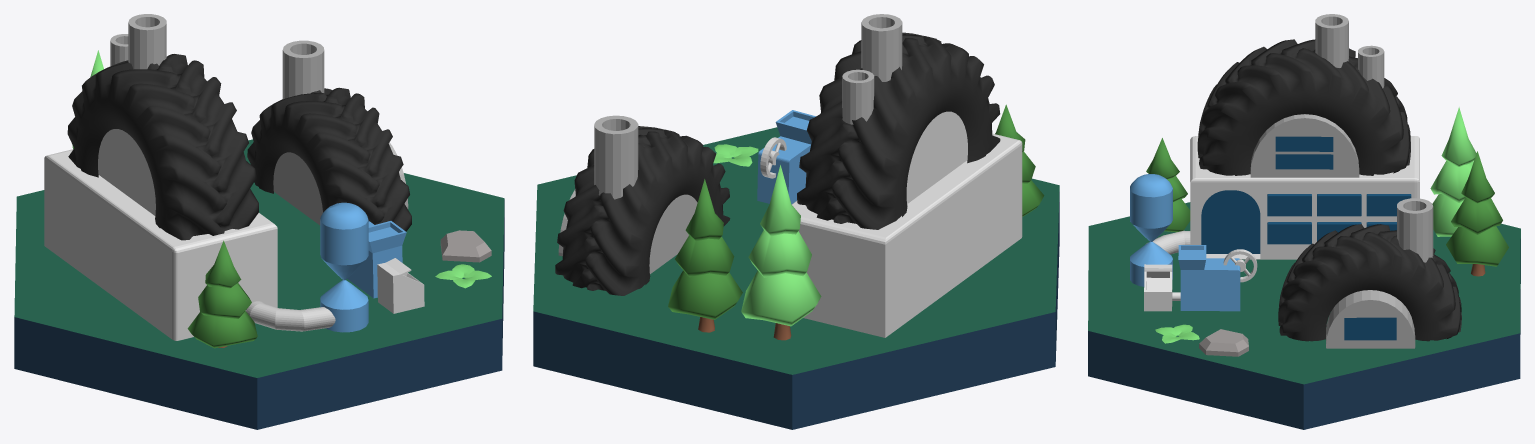
Rendered from Macro - transportation factory lv3 wm3.fbx.
The picture shows the model from 3 angles, left to right: view 1: azimuth 30°, elevation 25°; view 2: azimuth 150°, elevation 25°; view 3: azimuth 270°, elevation 25°; orthographic projection. The views are drawn at different scales.
Parts seen in each view (by area): view 1: Cylinder.154, Cylinder.018, Cube.002, Cylinder.007, Cylinder.014, Tree_Spruce_tiny_01.001, Cylinder.020, Cylinder.003, Cylinder.006, Cube.012, Cube.011, Cylinder.011 (+4 smaller); view 2: Cylinder.154, Cube.002, Cylinder.018, Cylinder.007, Tree_Spruce_tiny_01.002, Tree_Spruce_tiny_01.003, Cylinder.020, Cylinder.003, Cube.012, Cylinder.011, Cylinder.006, Cylinder.004 (+2 smaller); view 3: Cylinder.154, Cylinder.018, Cylinder.007, Cube.002, Tree_Spruce_tiny_01.003, Cylinder.016, Cube.012, Cylinder.014, Cube.008, Cylinder.015, Tree_Spruce_tiny_01.002, Cylinder.003 (+14 smaller).
Boxes of the visible parts, bbox=[...] form: Cylinder.154: bbox=[14, 139, 504, 429]; Cylinder.018: bbox=[67, 54, 258, 240]; Cube.002: bbox=[44, 149, 277, 340]; Cylinder.007: bbox=[247, 87, 411, 231]; Cylinder.014: bbox=[320, 202, 368, 332]; Tree_Spruce_tiny_01.001: bbox=[187, 240, 257, 348]; Cylinder.020: bbox=[98, 129, 155, 215]; Cylinder.003: bbox=[282, 40, 324, 99]; Cylinder.006: bbox=[273, 152, 322, 225]; Cube.012: bbox=[347, 221, 406, 298]; Cube.011: bbox=[377, 258, 424, 313]; Cylinder.011: bbox=[128, 14, 166, 69]; Cylinder.154: bbox=[533, 127, 1059, 429]; Cube.002: bbox=[791, 133, 1022, 337]; Cylinder.018: bbox=[797, 32, 1000, 229]; Cylinder.007: bbox=[555, 126, 730, 295]; Tree_Spruce_tiny_01.002: bbox=[741, 165, 821, 340]; Tree_Spruce_tiny_01.003: bbox=[668, 179, 742, 332]; Cylinder.020: bbox=[906, 111, 967, 203]; Cylinder.003: bbox=[594, 115, 638, 199]; Cube.012: bbox=[757, 110, 815, 204]; Cylinder.011: bbox=[861, 14, 902, 81]; Cylinder.006: bbox=[649, 194, 697, 273]; Cylinder.004: bbox=[842, 69, 874, 124]; Cylinder.154: bbox=[1088, 202, 1520, 429]; Cylinder.018: bbox=[1197, 39, 1410, 175]; Cylinder.007: bbox=[1278, 224, 1461, 341]; Cube.002: bbox=[1190, 136, 1419, 259]; Tree_Spruce_tiny_01.003: bbox=[1446, 151, 1508, 276]; Cylinder.016: bbox=[1250, 114, 1359, 177]; Cube.012: bbox=[1178, 245, 1240, 311]; Cylinder.014: bbox=[1130, 174, 1172, 286]; Cube.008: bbox=[1201, 190, 1260, 253]; Cylinder.015: bbox=[1326, 290, 1415, 348]; Tree_Spruce_tiny_01.002: bbox=[1430, 107, 1476, 236]; Cylinder.003: bbox=[1397, 198, 1433, 262].
Bounding box in the file's own units: 197 × 115 × 172.
